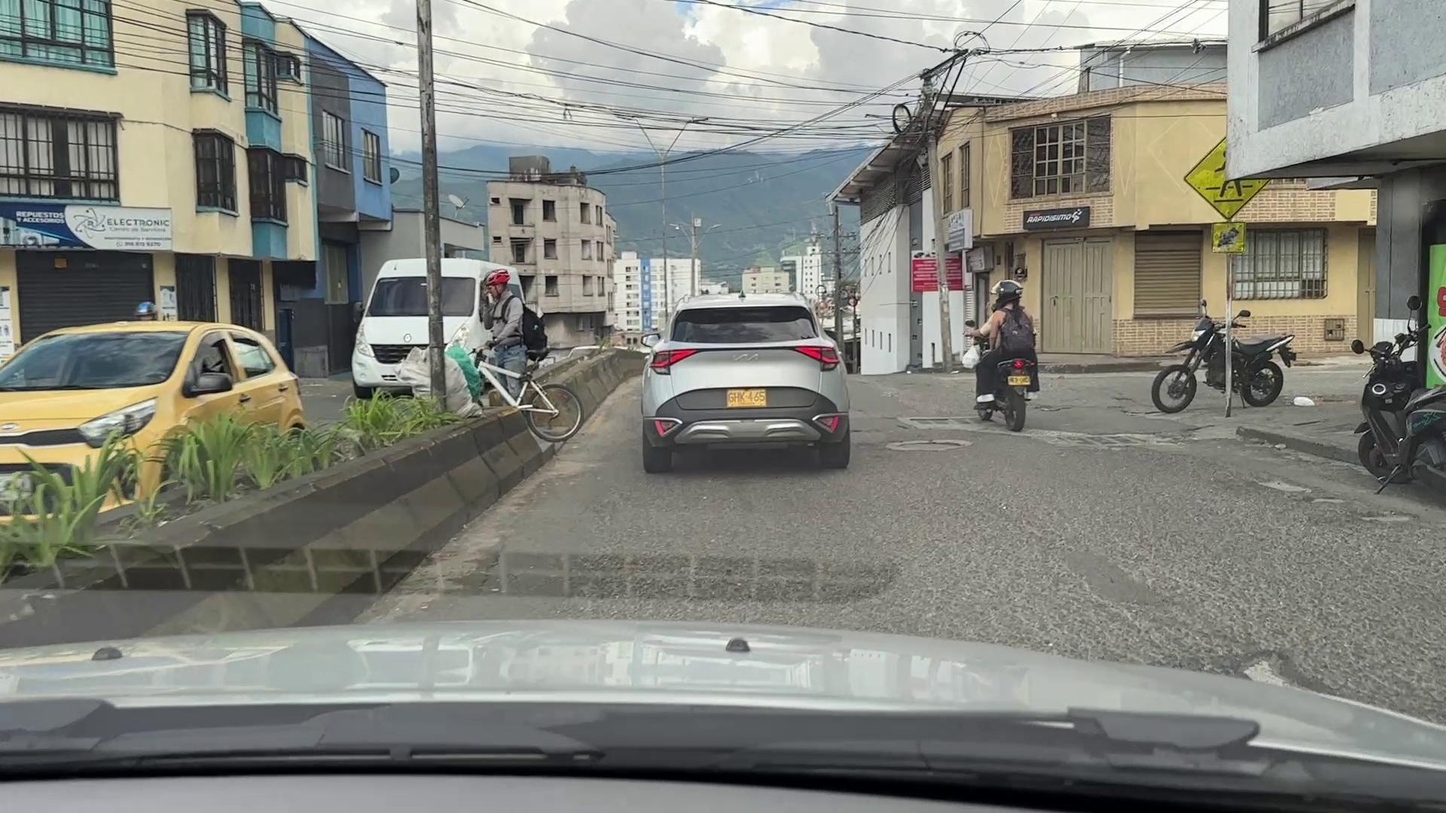bache: (1235, 651, 1329, 695), (1254, 479, 1312, 492), (1361, 513, 1416, 522), (1312, 498, 1344, 503)
registro: (897, 442, 960, 449)
rejilla: (1058, 435, 1150, 447), (911, 418, 997, 425)
